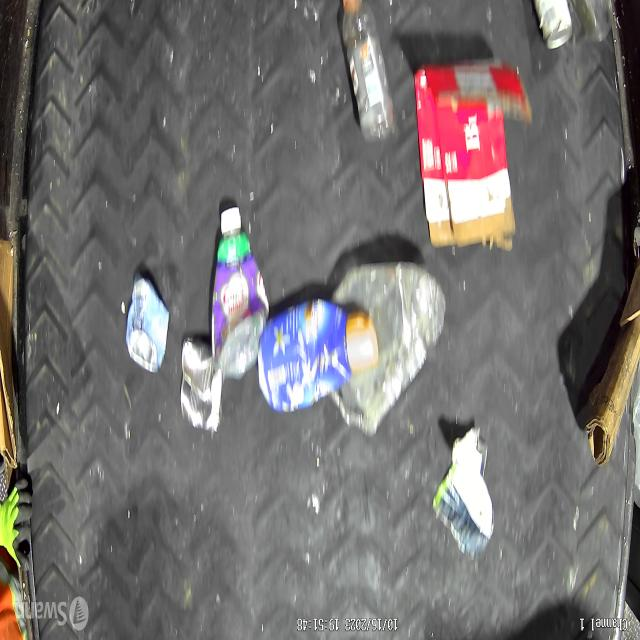can: (175, 332, 223, 437), (126, 274, 168, 384), (527, 0, 575, 54)
non_white_jug: (260, 290, 378, 412)
plastic_bottle: (336, 0, 401, 148)
